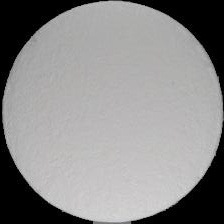51138-075: (0, 0, 224, 224)
